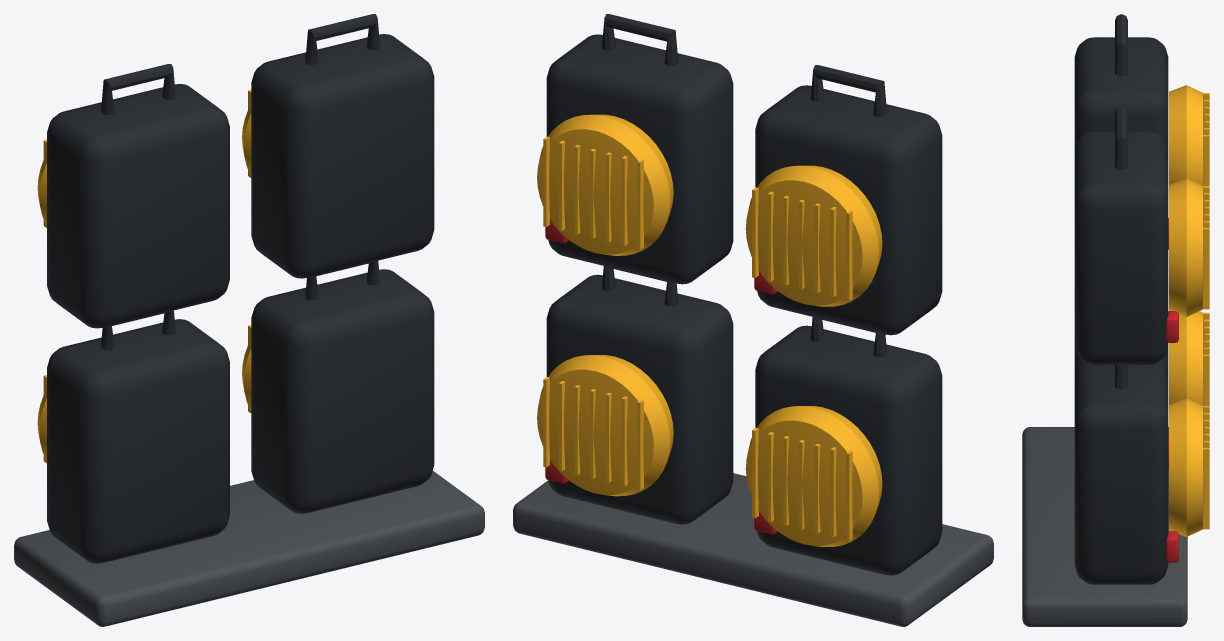
Rendered from warning_lamps.glb.
3 views of the same model, side by side, from view 1: azimuth 30°, elevation 25°; view 2: azimuth 150°, elevation 25°; view 3: azimuth 270°, elevation 25° (orthographic). The views are drawn at different scales.
Visible parts, largest first — view 1: warning_lamps; view 2: warning_lamps; view 3: warning_lamps.
Boxes of the visible parts, x1=… form: warning_lamps: x1=14, y1=14, x2=484, y2=626; warning_lamps: x1=513, y1=14, x2=993, y2=626; warning_lamps: x1=1022, y1=14, x2=1209, y2=626.
Size of the model in its own units: 0.2814 by 0.3447 by 0.1259.
